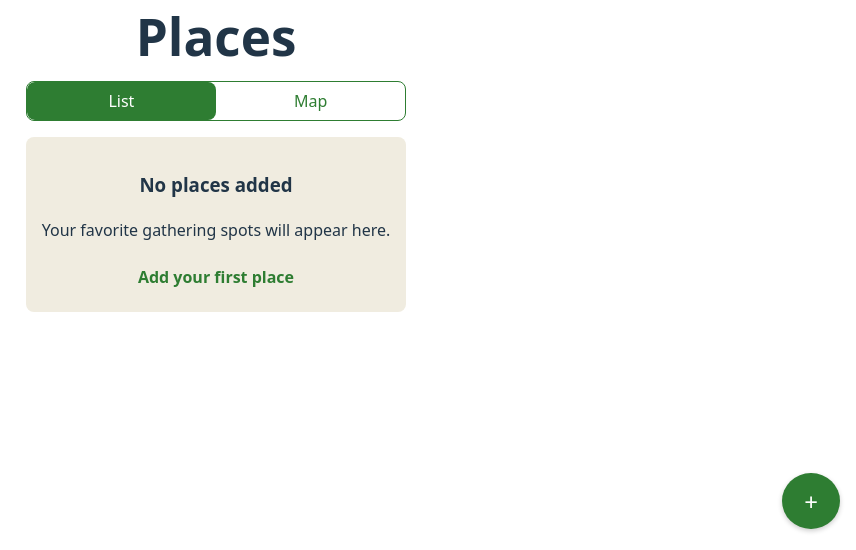
Test case: Places Page › should toggle between list and map views
Check: the heading "No places added" is shown, box 139,172 -> 293,197
Toggle to map view
Click the button "Map".
click(311, 100)  # box 216,82 -> 405,120
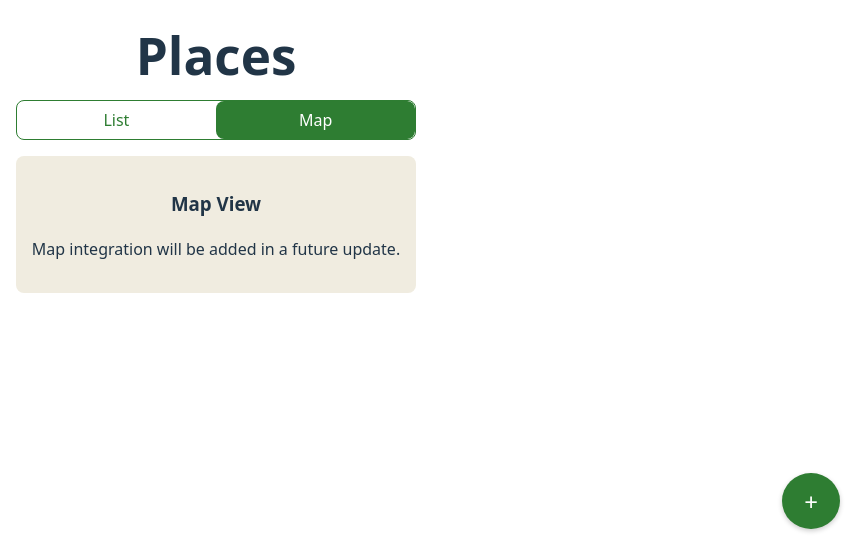
Check: the heading "Map View" is shown, box 171,191 -> 261,216
Check: the text "Map integration will be added in a future update." is shown, box 32,237 -> 400,261
